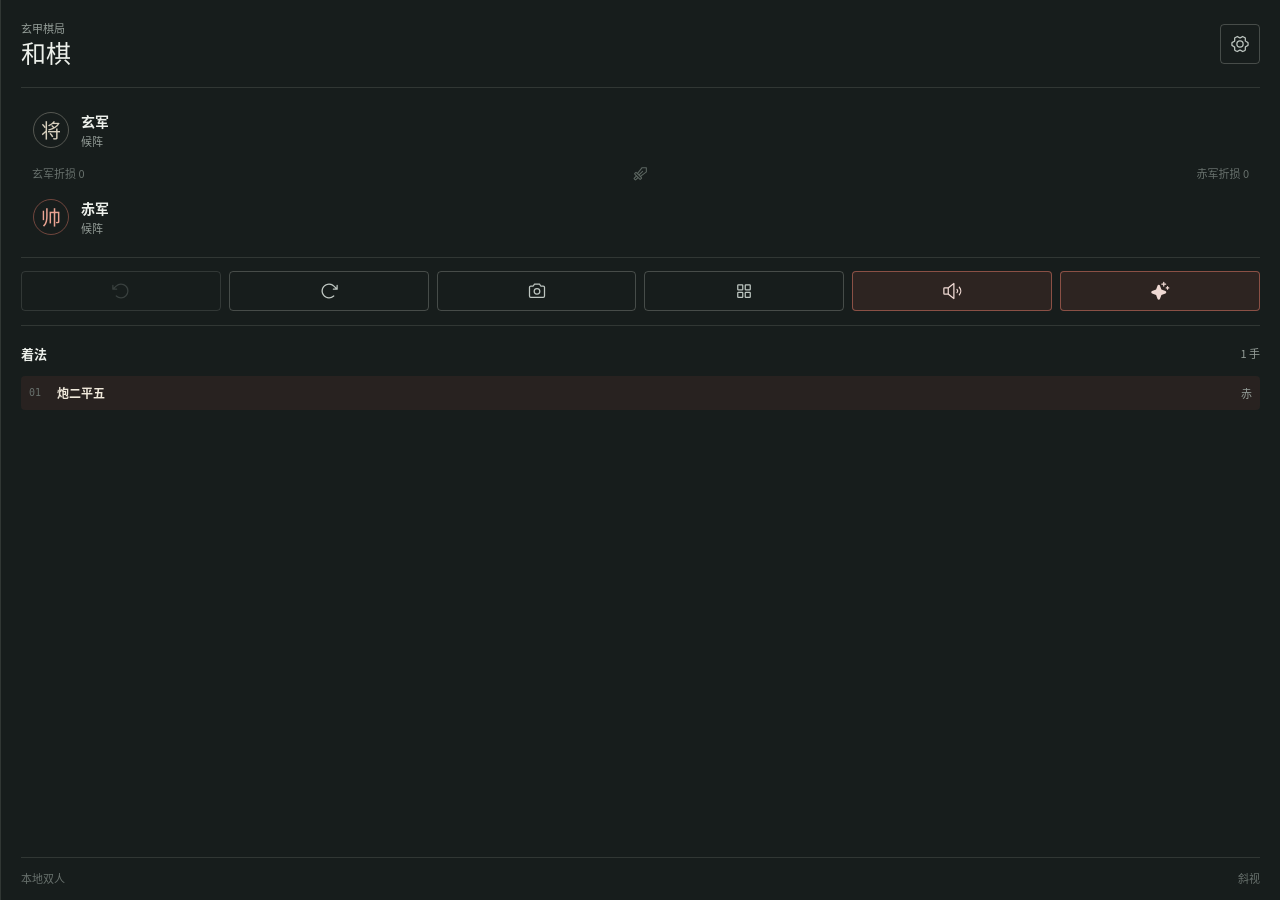
Test case: game record tools › appends 和棋 when copying a finished game
Click the button named "打开设置": click(1240, 44) [1220,24,1260,64]
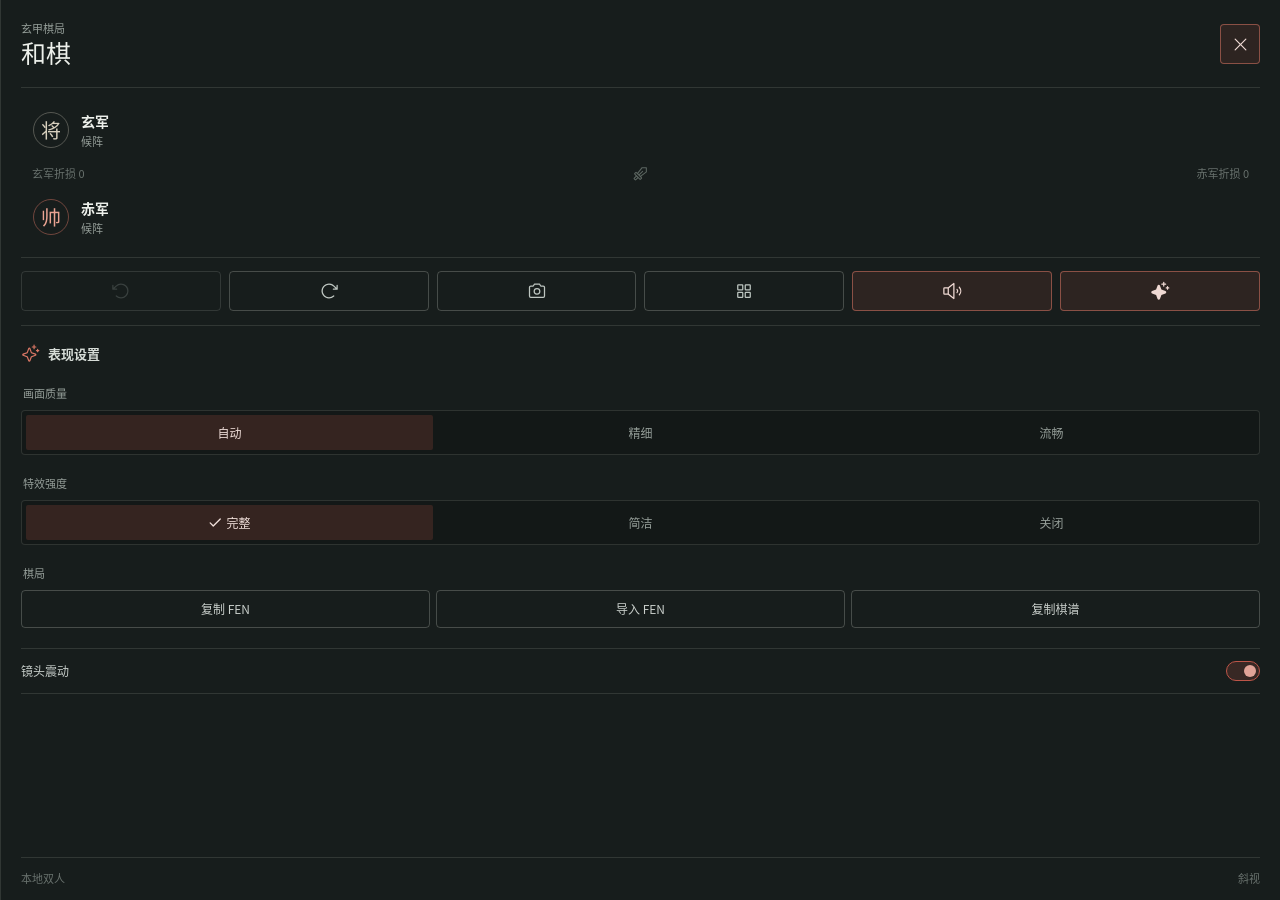
Click the button "复制棋谱": click(1056, 608) [851,590,1260,628]
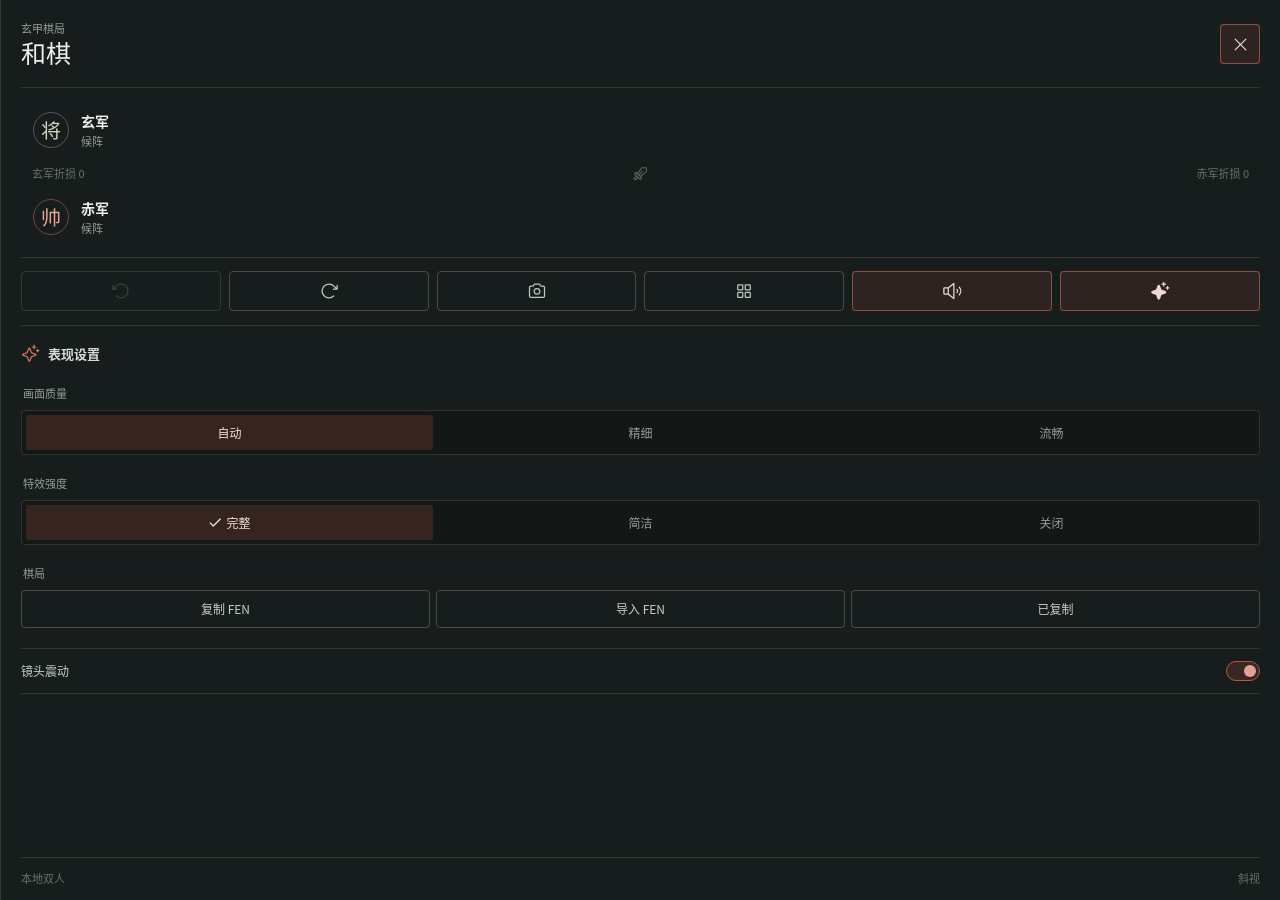
Expected: the button "已复制" is shown, [851,590,1260,628]
